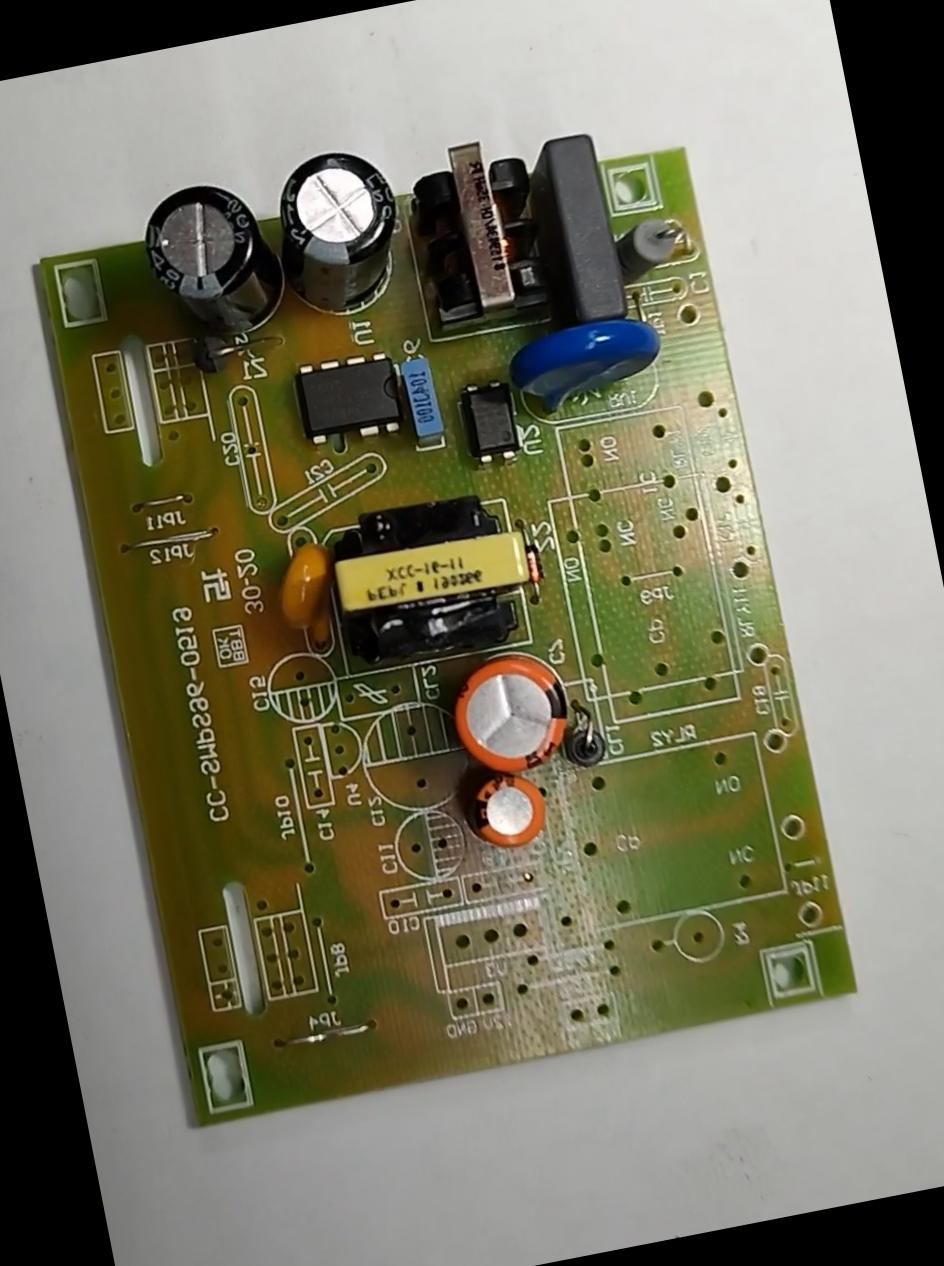Cap1: (432, 637, 586, 792)
Cap2: (456, 761, 558, 860)
Cap3: (252, 133, 420, 326)
Cap4: (125, 156, 299, 358)
MOSFET: (282, 340, 417, 458)
Mov: (498, 299, 677, 426)
Resistor: (607, 203, 690, 287)
Transformer: (310, 470, 549, 686), (394, 124, 562, 344)
